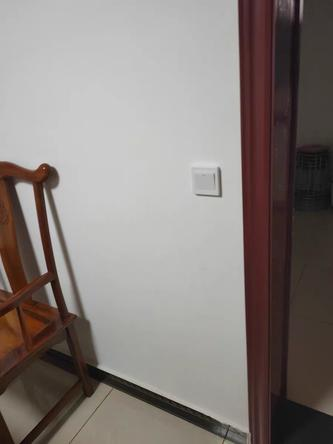switch: (190, 166, 219, 196)
